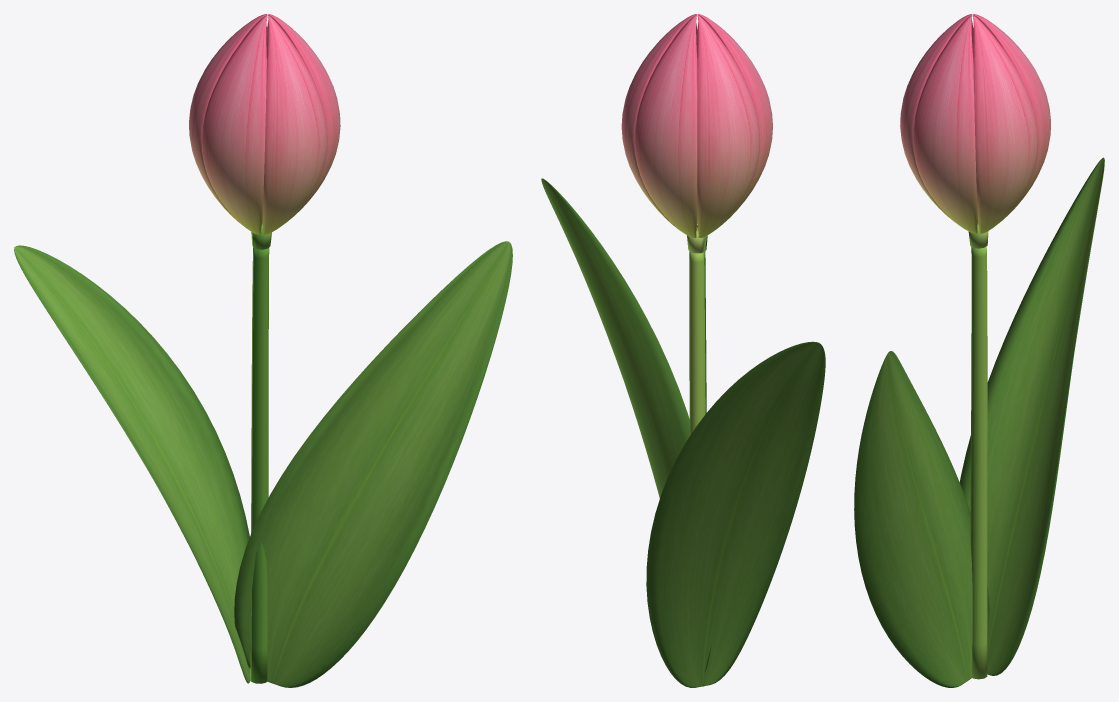
Rendered from NP_Tulip_BudForming.fbx.
3 renders of one model, left to right at view 1: azimuth 30°, elevation 25°; view 2: azimuth 150°, elevation 25°; view 3: azimuth 270°, elevation 25°, orthographic.
Visible parts, largest first — view 1: NP_Tulip_BudForming; view 2: NP_Tulip_BudForming; view 3: NP_Tulip_BudForming.
Part boxes in pixels (x1,y1,x2,y2): NP_Tulip_BudForming: (14, 14, 512, 687); NP_Tulip_BudForming: (541, 14, 825, 687); NP_Tulip_BudForming: (854, 14, 1104, 687).
Size of the model in its own units: 53.86 by 88.5 by 30.15.
